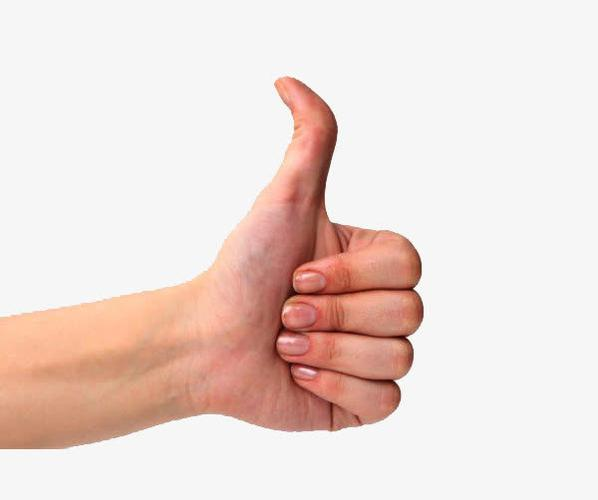no-phone: (180, 69, 425, 436)
